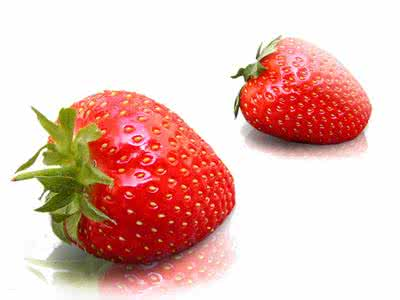strawberry: (34, 93, 237, 263), (235, 33, 377, 148)
